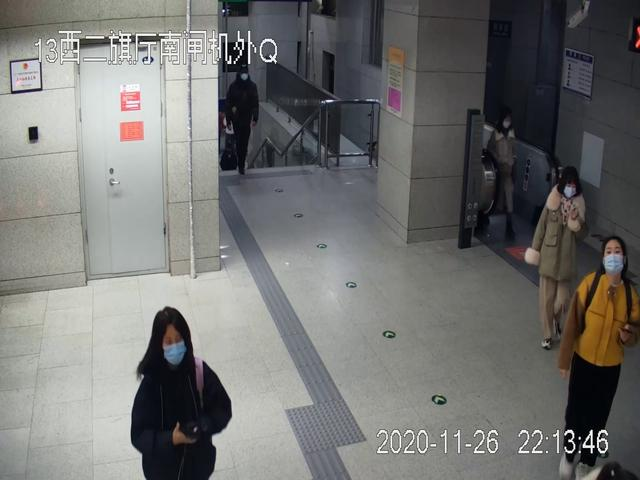person: (555, 235, 638, 480), (130, 305, 233, 480), (524, 165, 586, 351), (478, 104, 519, 244), (222, 61, 259, 175)
